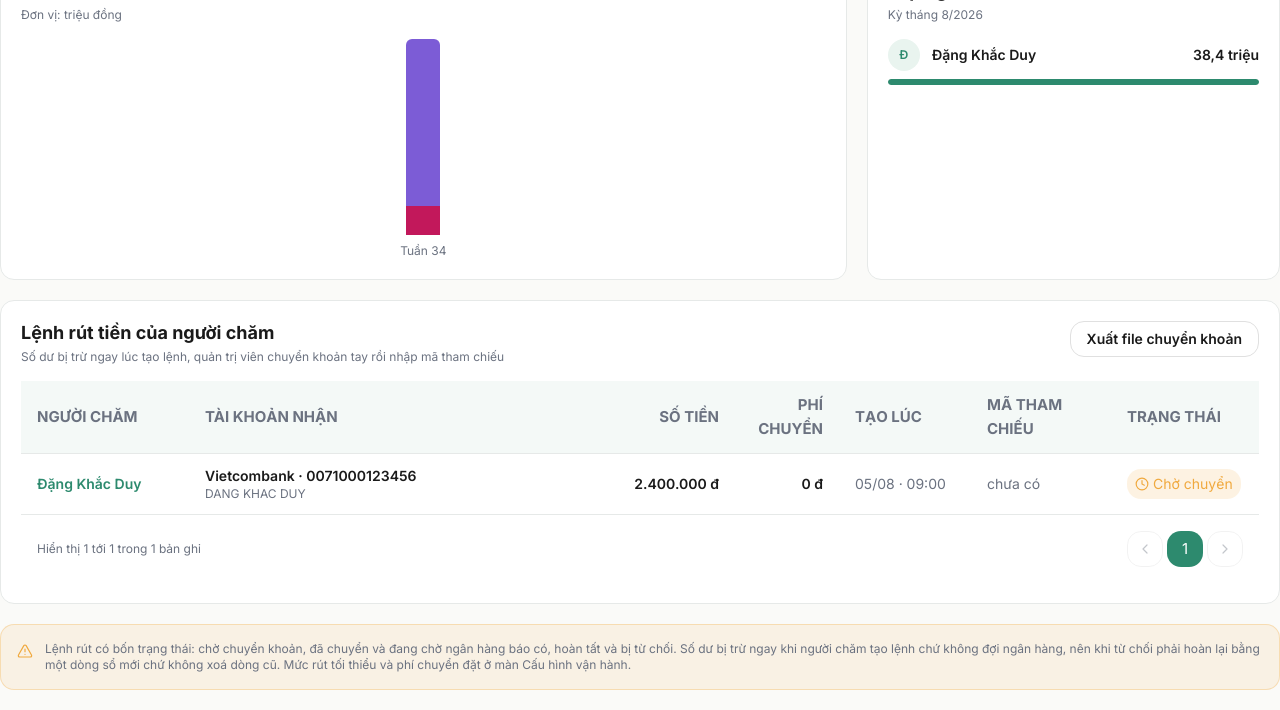
Test: Doanh thu và lệnh rút › lệnh chờ chuyển chọn được đúng hai lối, phải nhập mã mới gửi được
(page scrolled)
Click the text "DANG KHAC DUY": coordinates (255, 494) [205,486,306,501]
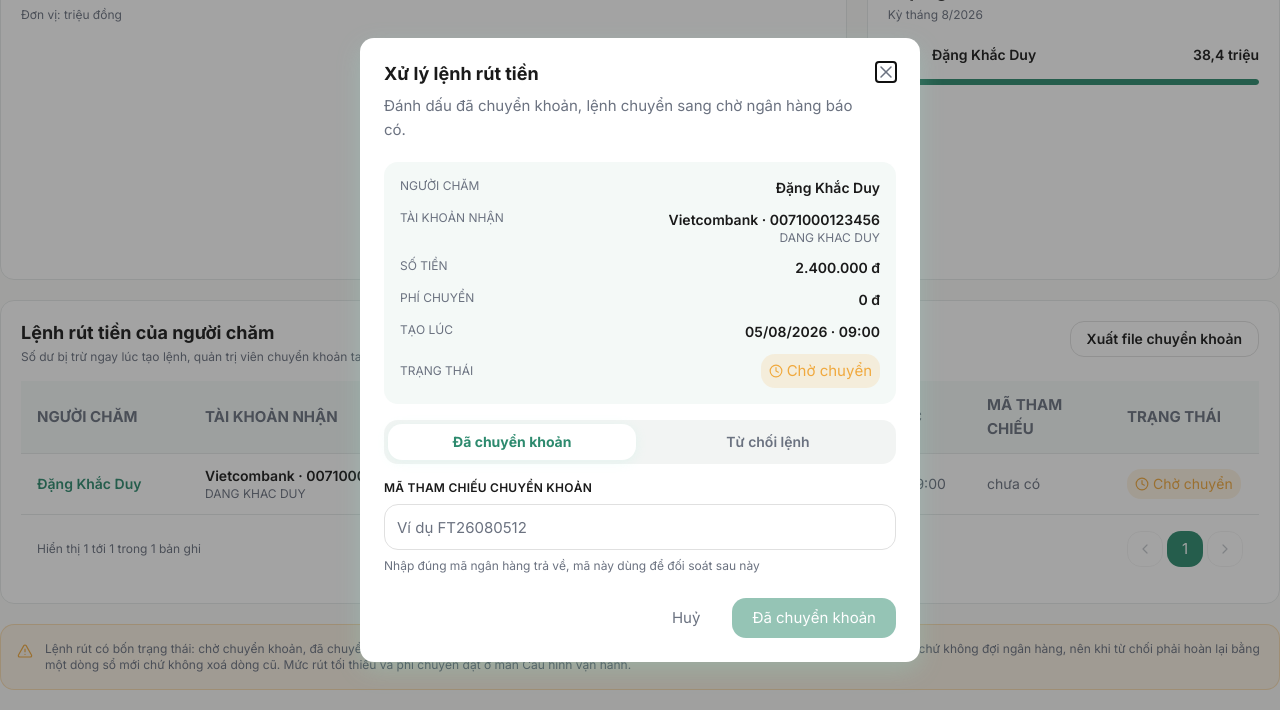
Expected: the number of buttons "Đã chuyển khoản" is 2, [388,424,636,460]; [732,598,896,638]
Expected: the button "Từ chối lệnh" is shown, [644,424,892,460]
Expected: the 2nd button "Đã chuyển khoản" is disabled, [732,598,896,638]
In the field with placeholder "Ví dụ FT26080512": coordinates (640, 527) [384,504,896,550], type "FT26080512"
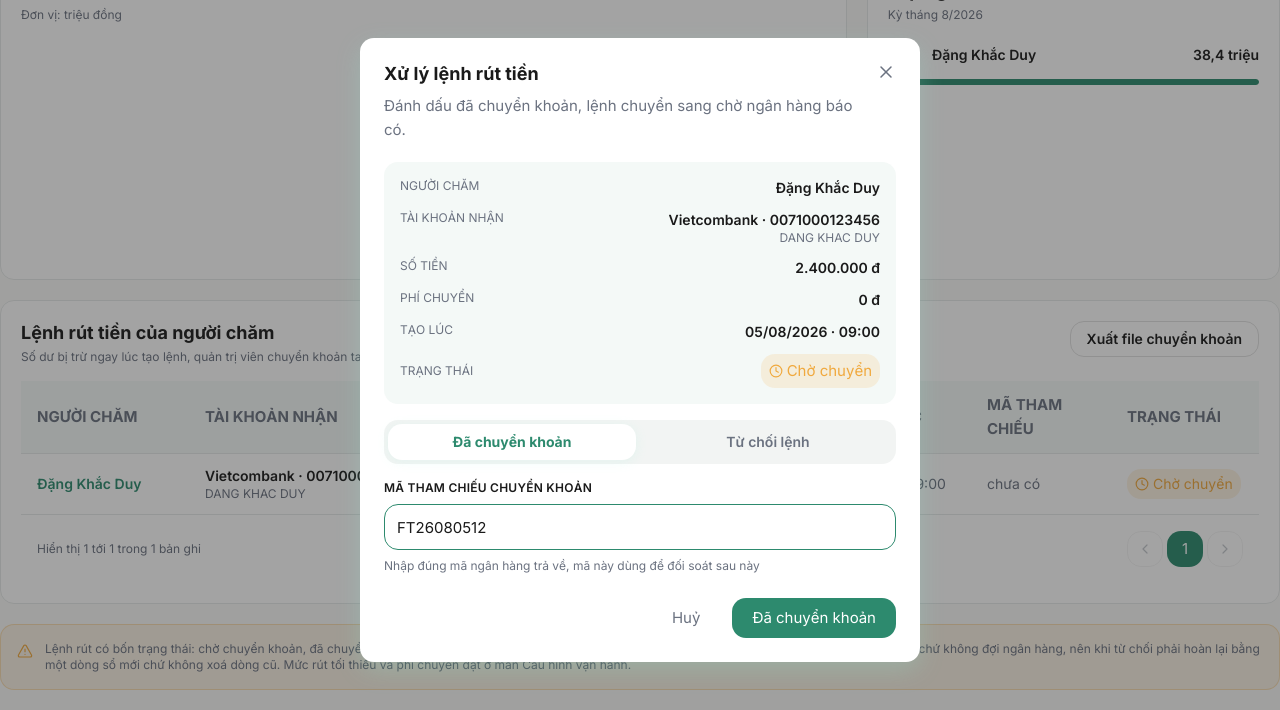
Expected: the 2nd button "Đã chuyển khoản" is enabled, [732,598,896,638]
